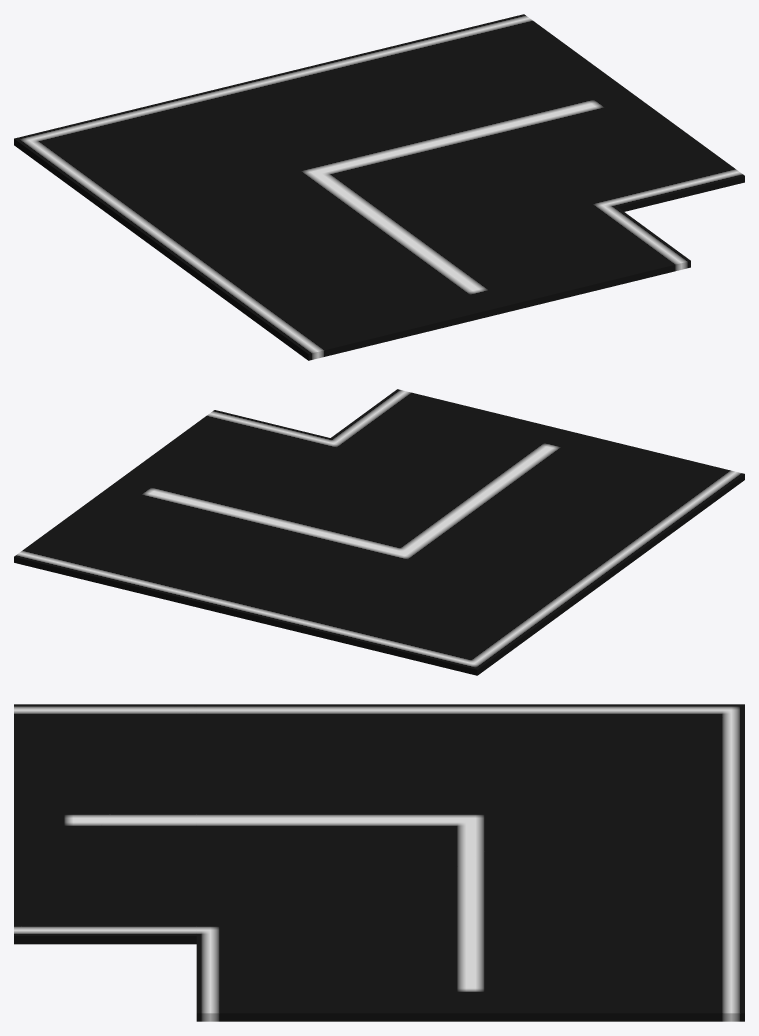
File: Carretera11.fbx
The picture shows the model from 3 angles, top to bottom: view 1: azimuth 30°, elevation 25°; view 2: azimuth 150°, elevation 25°; view 3: azimuth 270°, elevation 25°; orthographic projection. The views are drawn at different scales.
Visible parts, largest first — view 1: Carretera11; view 2: Carretera11; view 3: Carretera11.
Part boxes in pixels (x1=…): Carretera11: x1=14, y1=14, x2=744, y2=360; Carretera11: x1=14, y1=389, x2=744, y2=675; Carretera11: x1=14, y1=704, x2=744, y2=1021.
Size of the model in its own units: 80 by 1 by 80.
